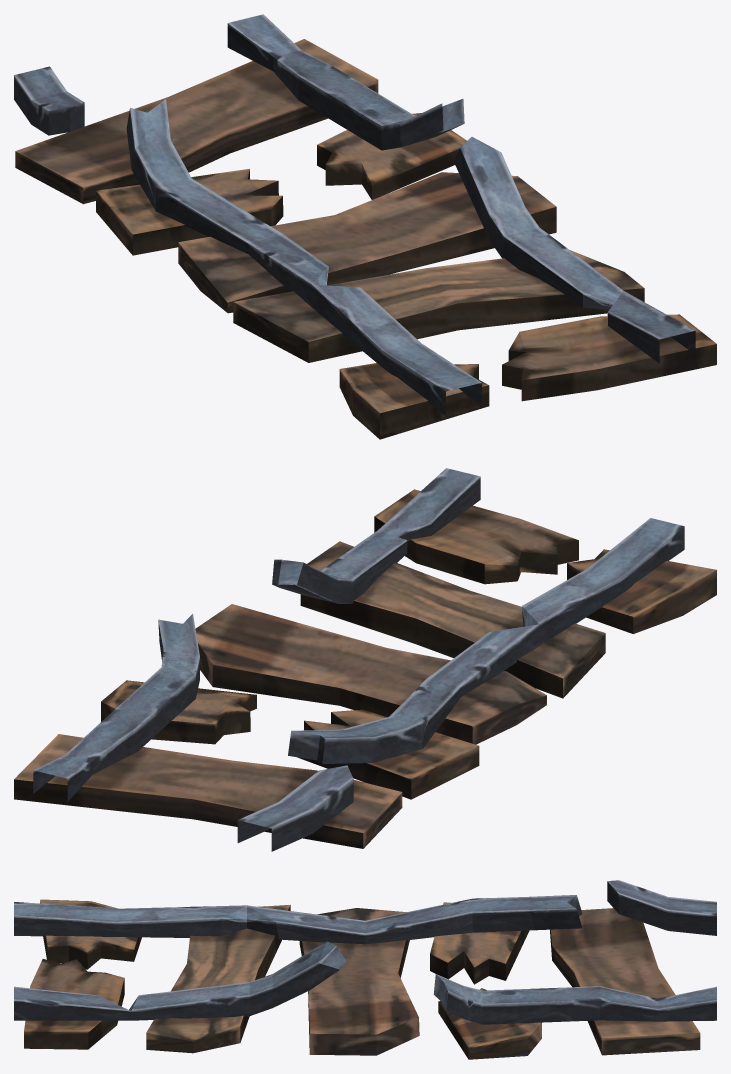
File: bandit_track_broken_01.fbx
3 renders of one model, top to bottom at view 1: azimuth 30°, elevation 25°; view 2: azimuth 150°, elevation 25°; view 3: azimuth 270°, elevation 25°, orthographic. The views are drawn at different scales.
Visible parts, largest first — view 1: obj0.721; view 2: obj0.721; view 3: obj0.721.
Part boxes in pixels (<box>): obj0.721: <box>14,14,716,439</box>; obj0.721: <box>14,468,716,851</box>; obj0.721: <box>14,880,716,1059</box>.
Bounding box in the file's own units: 1.9 × 0.5274 × 4.
